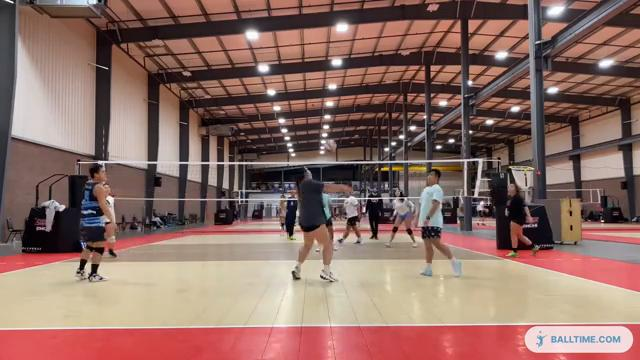ricezione: (289, 160, 354, 284)
